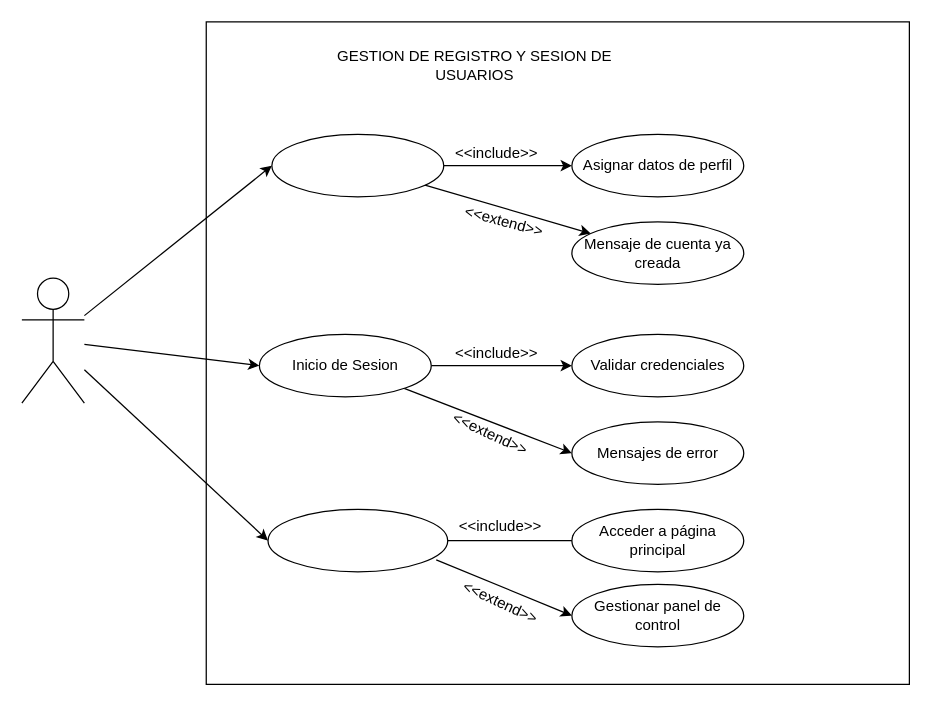
Some shapes in this 931 by 706 pixel diagram are drawn without their labels. Each missing label, with the box of its shape:
Navegación a Index: (267, 508, 448, 572)
Registro: (271, 133, 444, 197)
Usuario: (21, 277, 84, 403)
